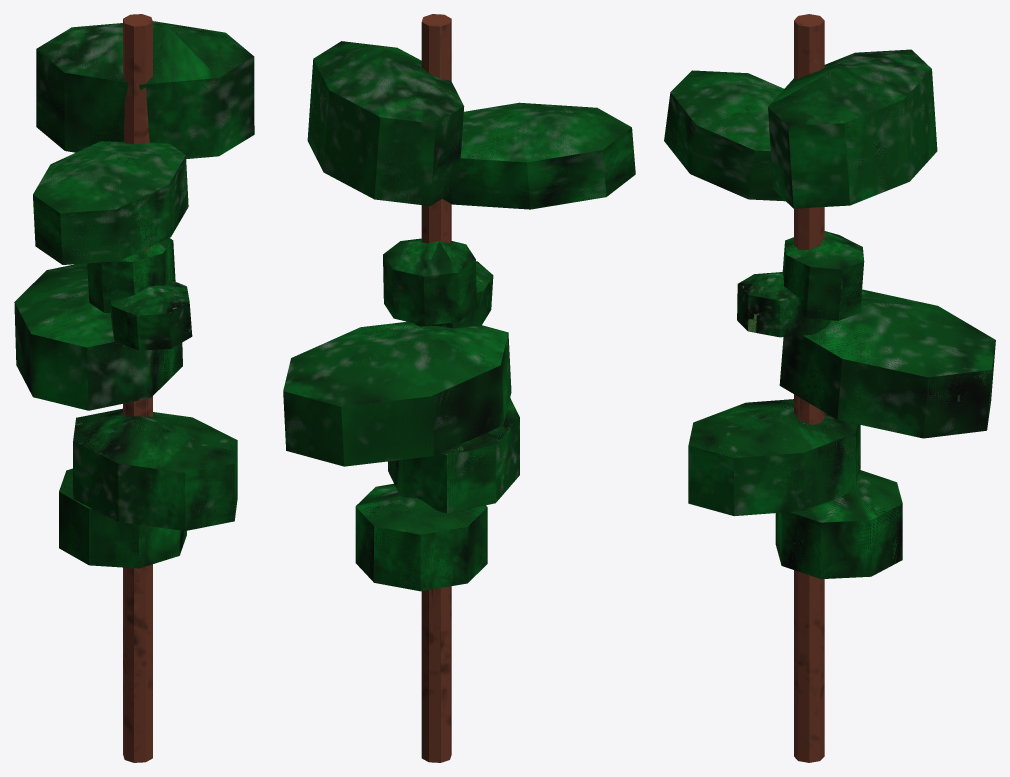
Rendered from tree2.fbx.
3 views of the same model, side by side, from view 1: azimuth 30°, elevation 25°; view 2: azimuth 150°, elevation 25°; view 3: azimuth 270°, elevation 25° (orthographic).
Parts seen in each view (by area): view 1: pCylinder4, pCylinder3, pCylinder7, pCylinder6, trunk1, pCylinder2, pCylinder5, pCylinder8; view 2: pCylinder6, pCylinder4, pCylinder7, pCylinder2, trunk1, pCylinder3, pCylinder8, pCylinder5; view 3: pCylinder6, pCylinder4, pCylinder3, pCylinder7, pCylinder2, trunk1, pCylinder8, pCylinder5.
Part boxes in pixels (x1,y1,x2,y2): pCylinder4: [36, 21, 254, 158]; pCylinder3: [73, 408, 237, 530]; pCylinder7: [33, 141, 188, 264]; pCylinder6: [14, 263, 182, 410]; trunk1: [123, 14, 152, 762]; pCylinder2: [59, 468, 186, 568]; pCylinder5: [110, 280, 192, 350]; pCylinder8: [87, 238, 175, 312]; pCylinder6: [283, 321, 511, 466]; pCylinder4: [307, 41, 464, 205]; pCylinder7: [442, 102, 635, 209]; pCylinder2: [355, 483, 487, 591]; trunk1: [421, 14, 451, 762]; pCylinder3: [388, 398, 519, 513]; pCylinder8: [383, 238, 476, 325]; pCylinder5: [415, 261, 493, 328]; pCylinder6: [779, 289, 995, 438]; pCylinder4: [768, 49, 937, 208]; pCylinder3: [688, 399, 860, 516]; pCylinder7: [664, 70, 785, 201]; pCylinder2: [775, 470, 902, 579]; trunk1: [794, 14, 824, 762]; pCylinder8: [782, 231, 864, 320]; pCylinder5: [737, 272, 830, 337].
Bounding box in the file's own units: 3.77 × 10.78 × 4.41.
Materials: 2 (2 with a texture image).
